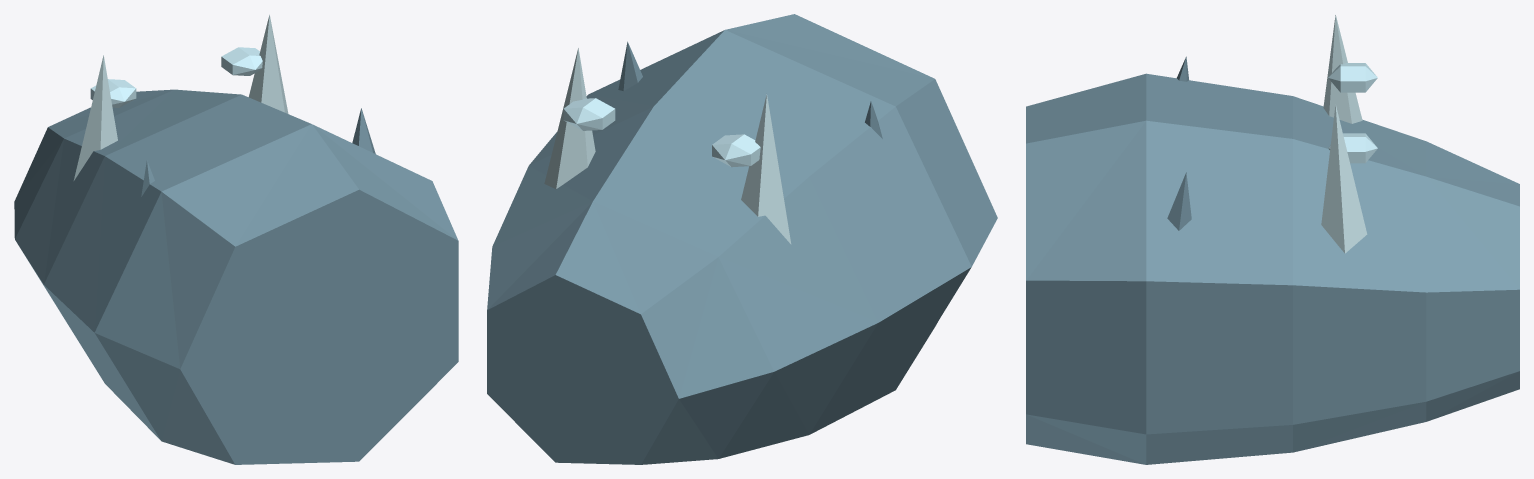
File: frost_predator_head.glb
3 views of the same model, side by side, from view 1: azimuth 30°, elevation 25°; view 2: azimuth 150°, elevation 25°; view 3: azimuth 270°, elevation 25° (orthographic). The views are drawn at different scales.
Parts seen in each view (by area): view 1: frost_predator_head; view 2: frost_predator_head; view 3: frost_predator_head.
Boxes of the visible parts, x1,y1,x2,y2 form: frost_predator_head: (14, 15, 458, 464); frost_predator_head: (487, 14, 997, 464); frost_predator_head: (1026, 15, 1519, 464).
Size of the model in its own units: 0.6463 by 0.6365 by 0.74.
